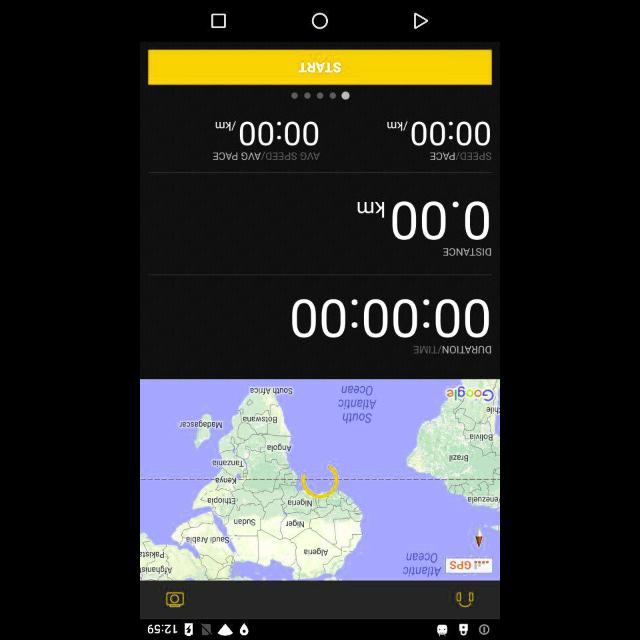icon: (166, 592, 184, 608), (312, 13, 328, 29), (414, 12, 428, 30), (457, 593, 473, 607), (212, 14, 226, 28)
map: (140, 380, 500, 580)
pageindicator: (291, 90, 349, 100)
panel: (140, 0, 500, 46)
text: (292, 299, 488, 337), (358, 202, 488, 240), (386, 121, 490, 145), (216, 122, 318, 146), (213, 152, 319, 160), (430, 152, 490, 160), (300, 60, 340, 72), (414, 346, 492, 352), (444, 248, 491, 256)
textbutton: (148, 50, 492, 86)
uppertaskbar: (141, 620, 499, 640)
